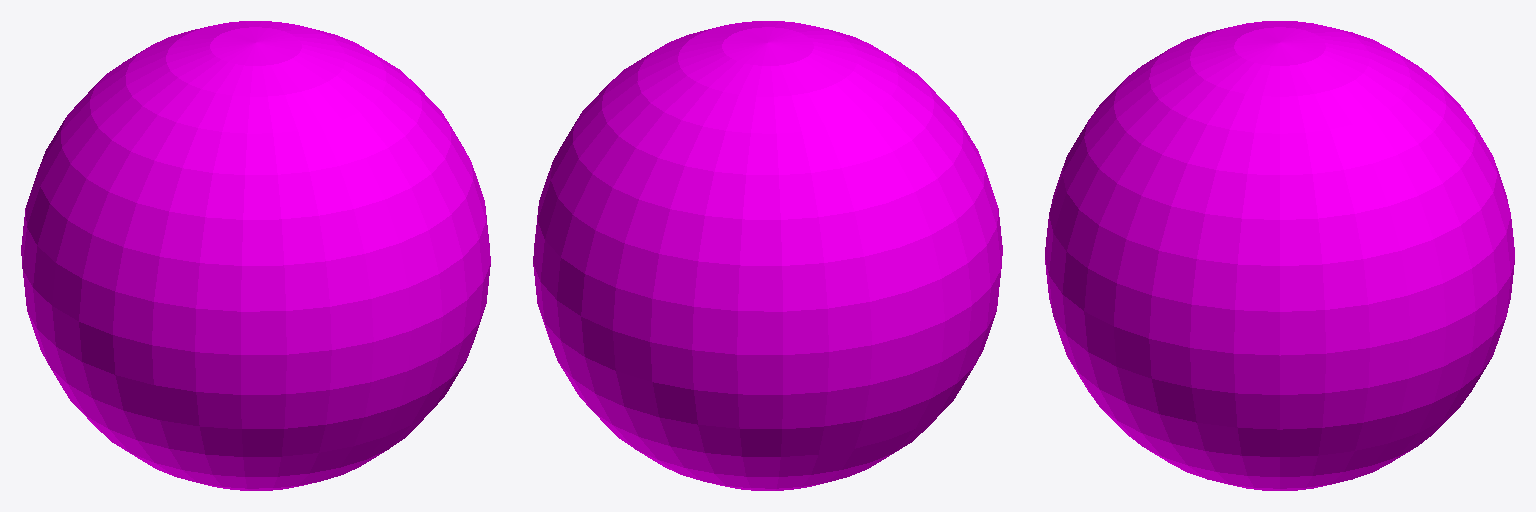
Rendered from magenta_sphere.obj.
3 views of the same model, side by side, from view 1: azimuth 30°, elevation 25°; view 2: azimuth 150°, elevation 25°; view 3: azimuth 270°, elevation 25° (orthographic).
Visible parts, largest first — view 1: Sphere; view 2: Sphere; view 3: Sphere.
Part boxes in pixels (left/top/right/bottom): Sphere: left=21, top=21, right=490, bottom=490; Sphere: left=533, top=21, right=1002, bottom=490; Sphere: left=1045, top=21, right=1514, bottom=490.
Size of the model in its own units: 0.4 by 0.4 by 0.4.